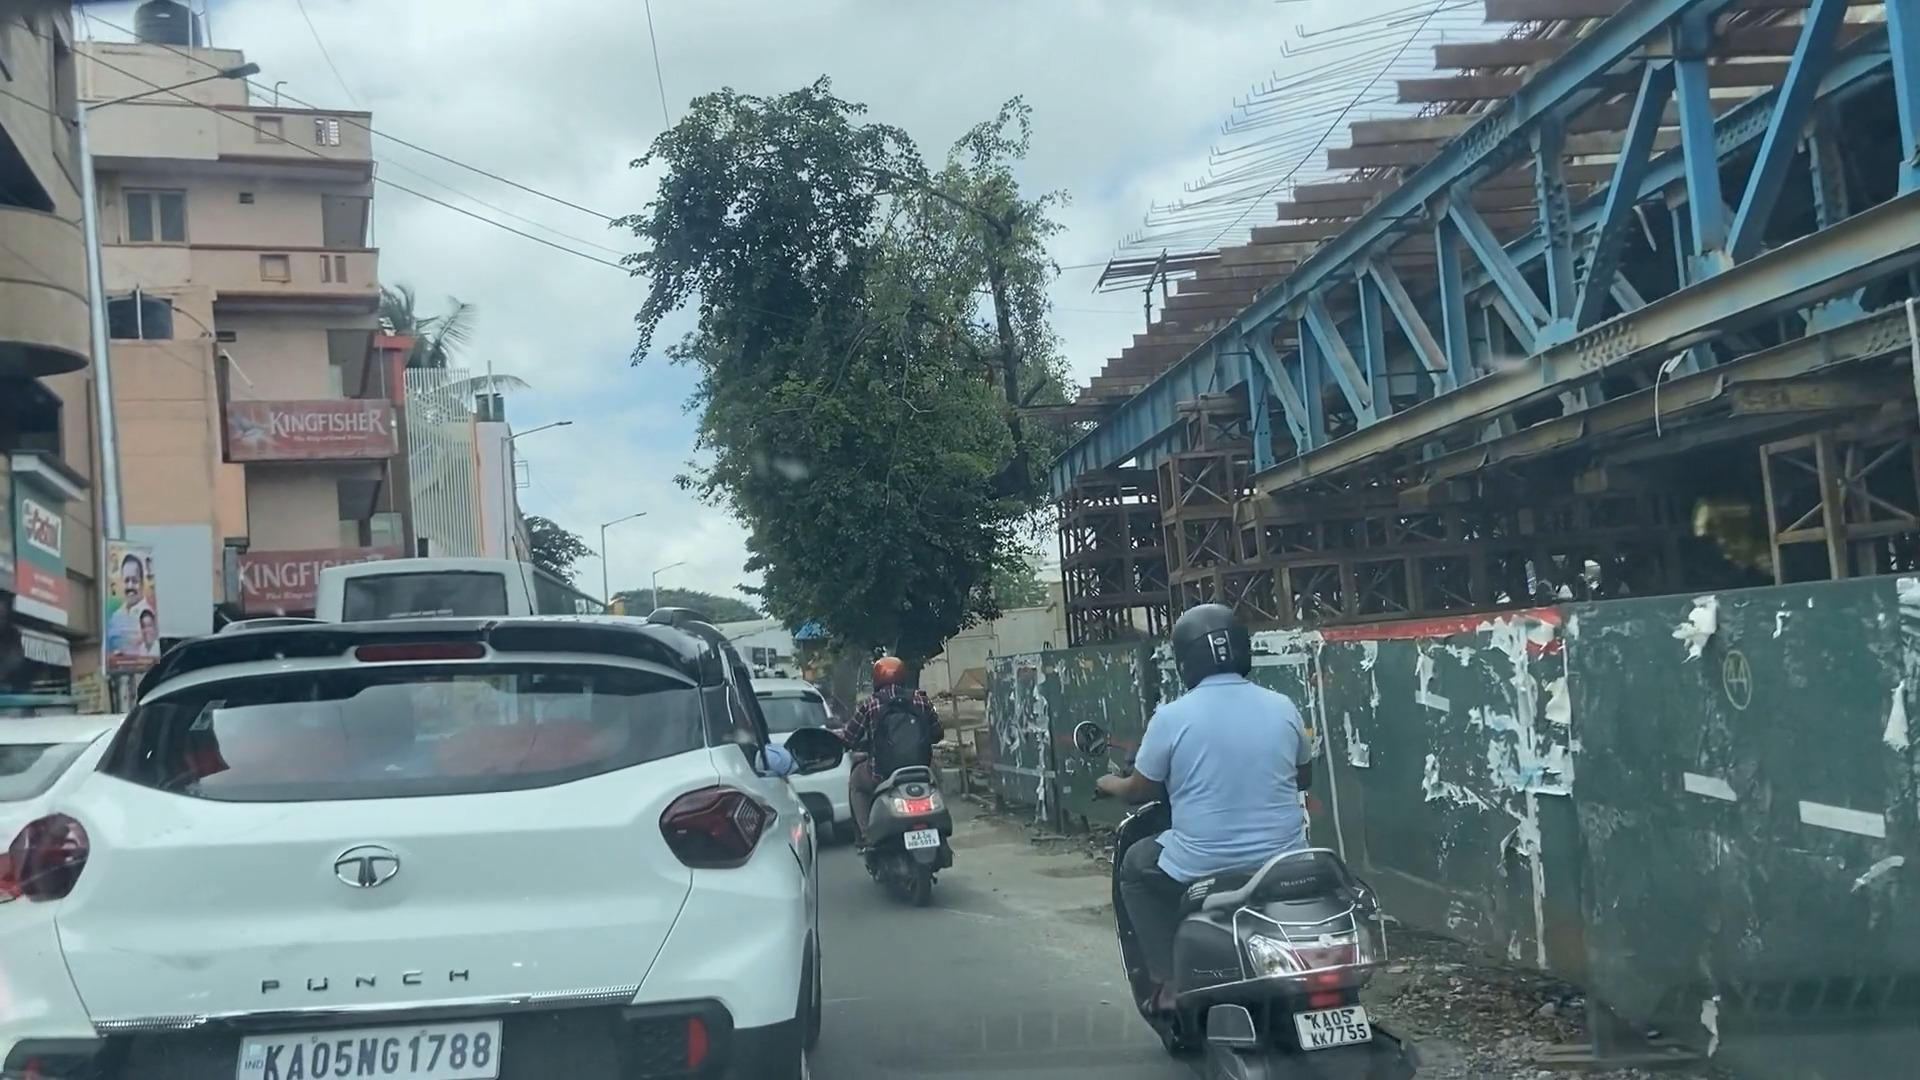LMV: (15, 646, 771, 1080), (1135, 612, 1394, 1080), (840, 646, 953, 901)
